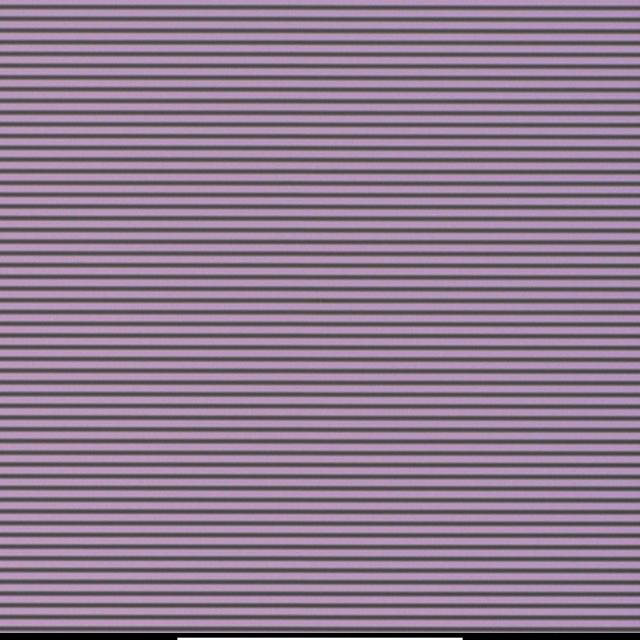03_intrusion: (318, 294, 326, 305)
